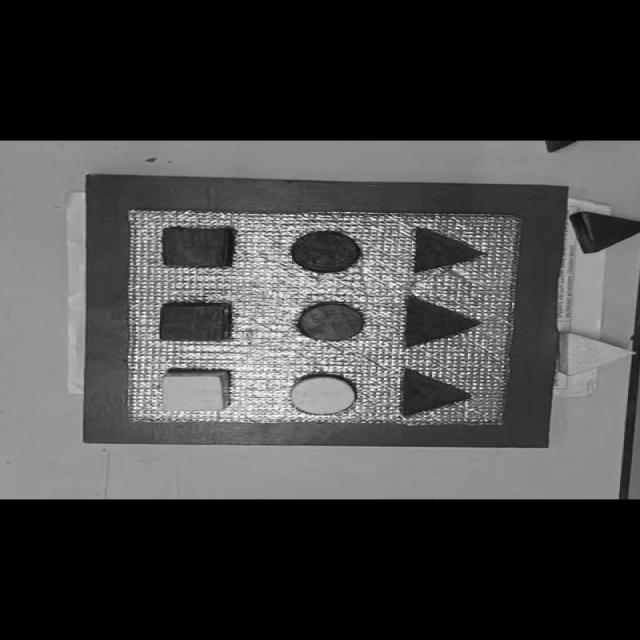bcircle: (290, 230, 363, 272), (544, 140, 579, 152)
mtcube: (159, 226, 236, 268)
mttriangle: (400, 294, 483, 348), (398, 367, 474, 418), (410, 227, 488, 274)
rcircle: (295, 301, 369, 341)
rcube: (158, 301, 232, 341)
rtriangle: (570, 212, 640, 252)
wb: (122, 209, 522, 428)
ycircle: (287, 372, 363, 416)
ycube: (160, 370, 232, 413)
ytriangle: (557, 332, 638, 376)
